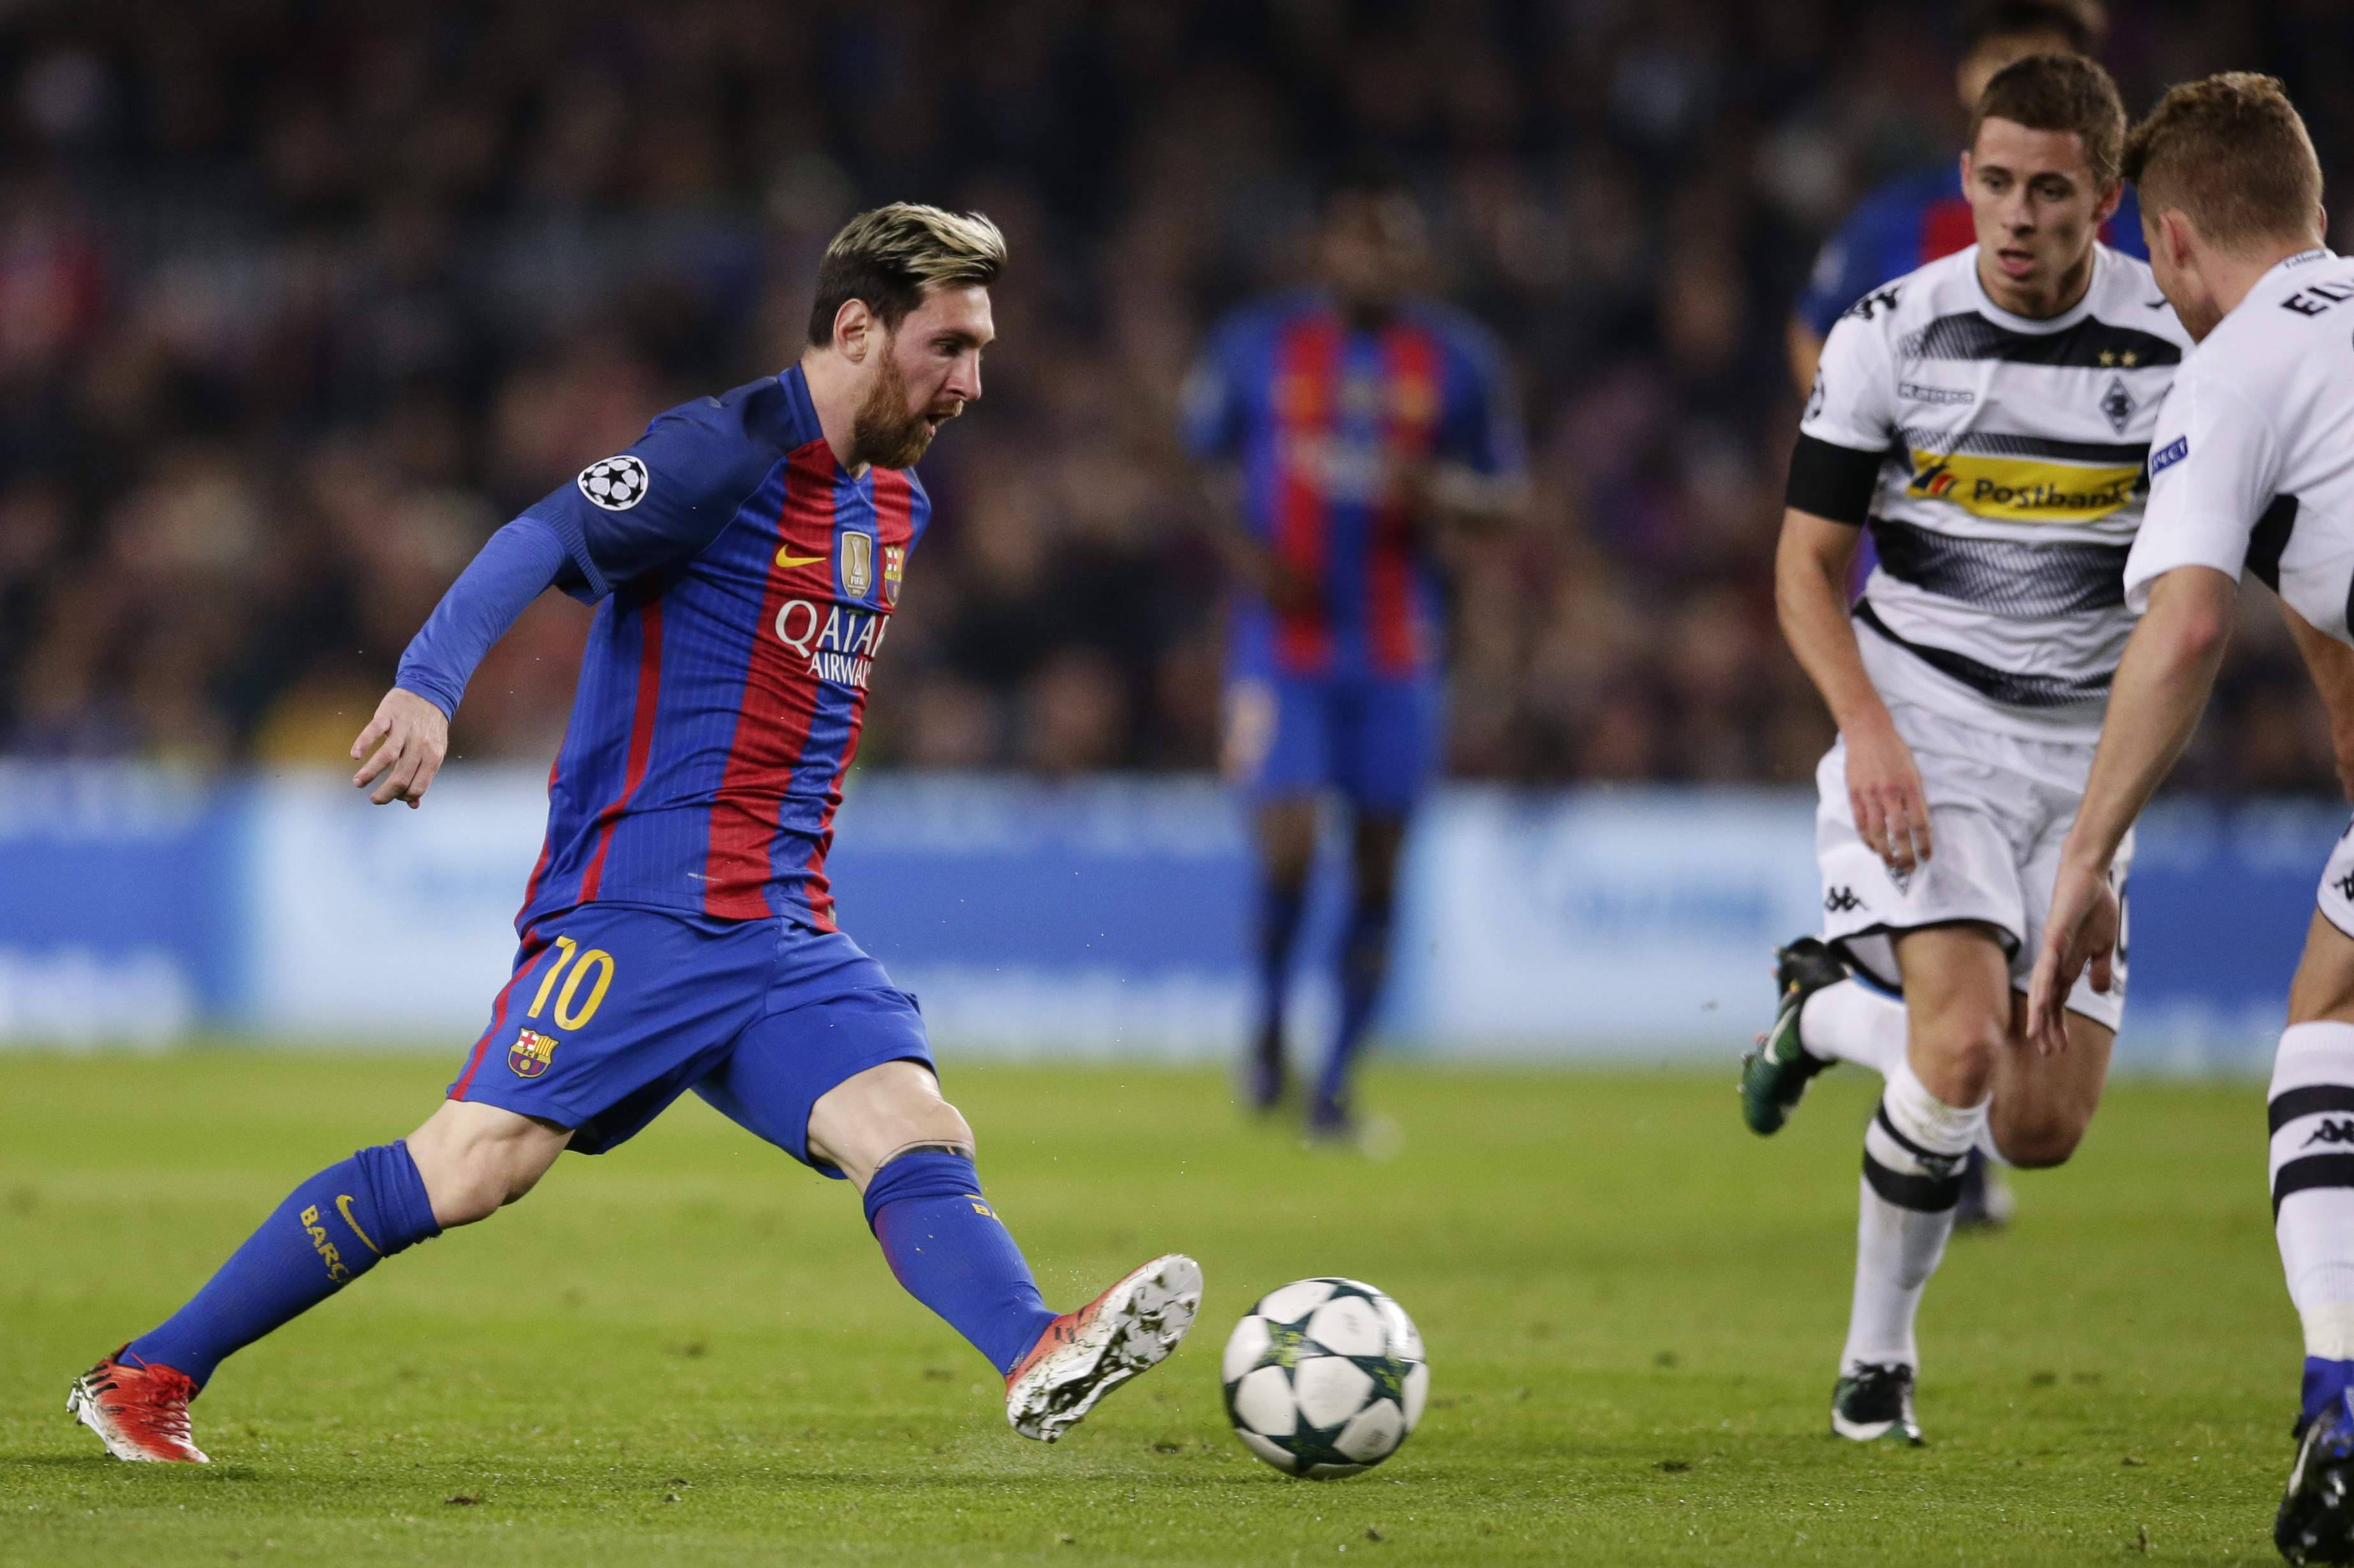soccer player: (71, 136, 1201, 1496), (1737, 57, 2189, 1453), (2025, 69, 2354, 1537), (1176, 177, 1551, 1174)
soccerball: (1217, 1259, 1439, 1488)
